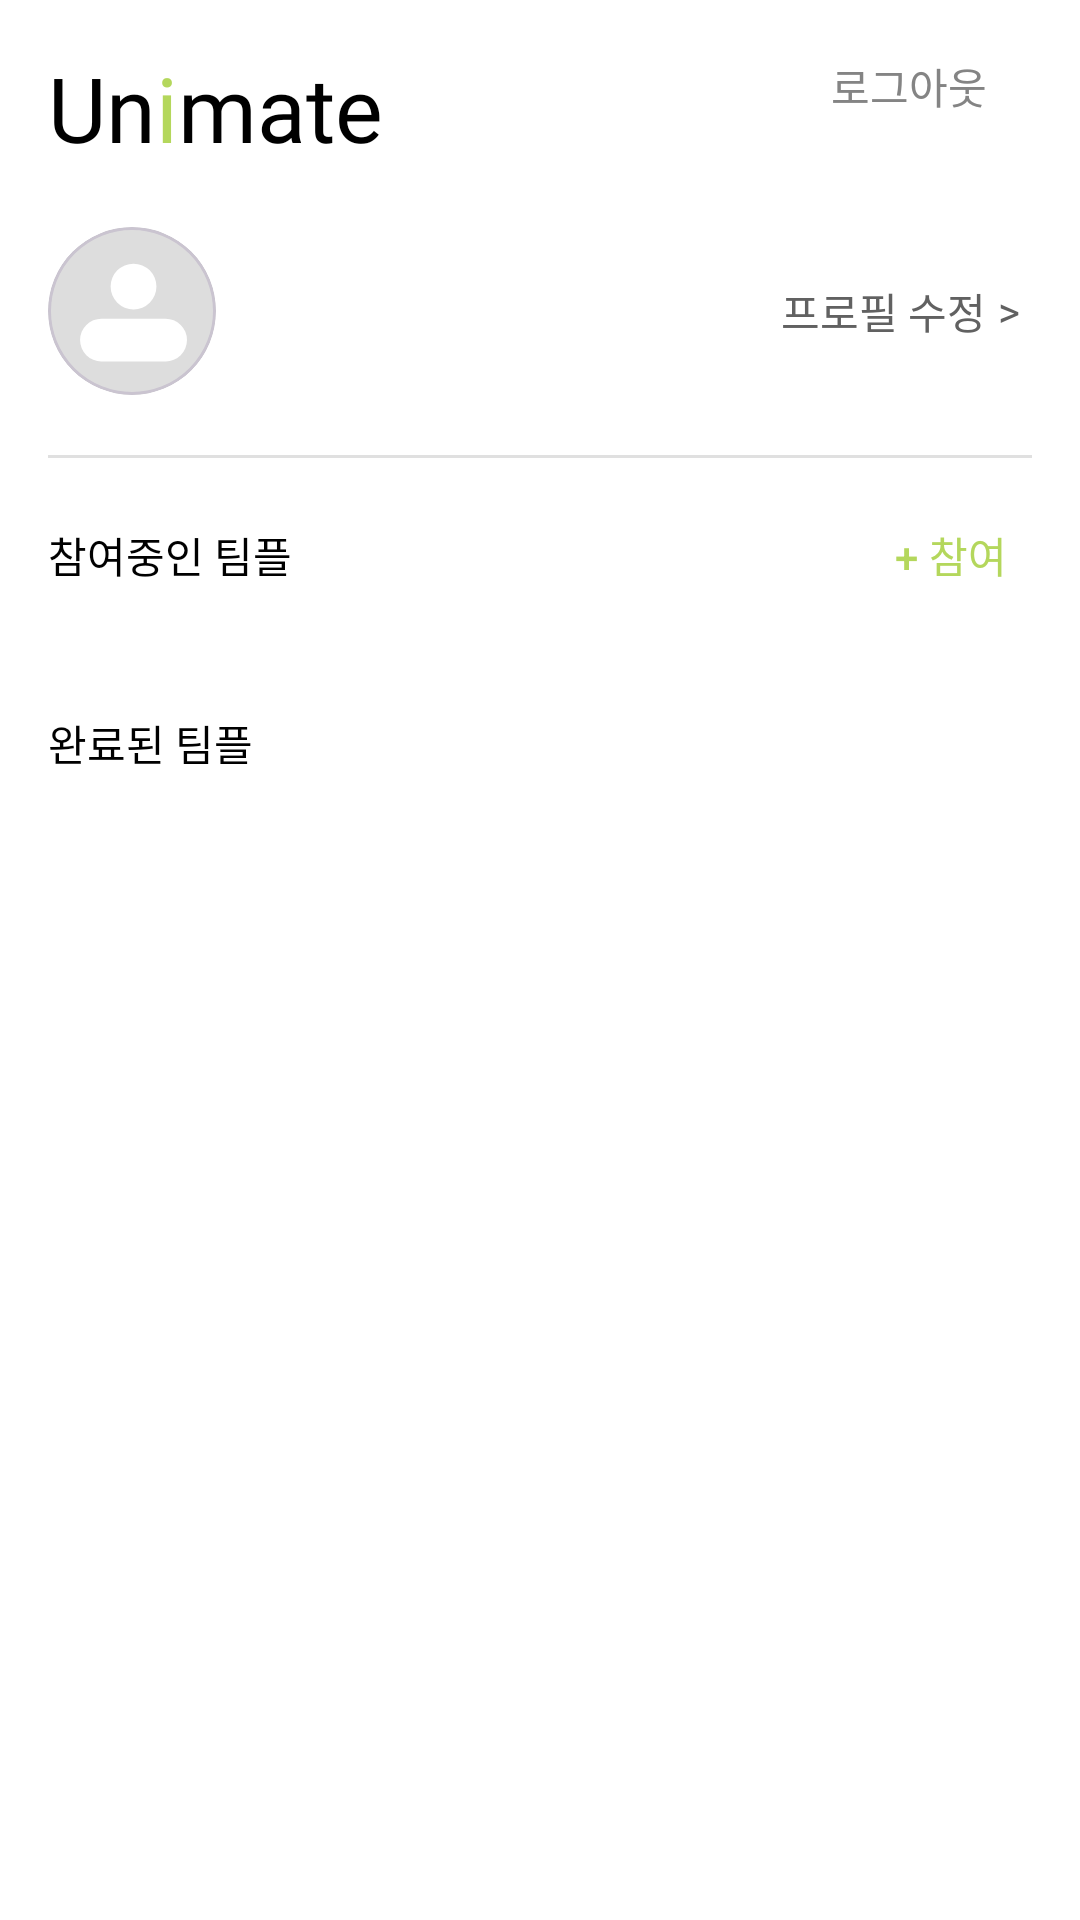

Named icons in this screenshot (1080 x 1920) and their centers, point (x, y):
프로필: point (132, 311)
